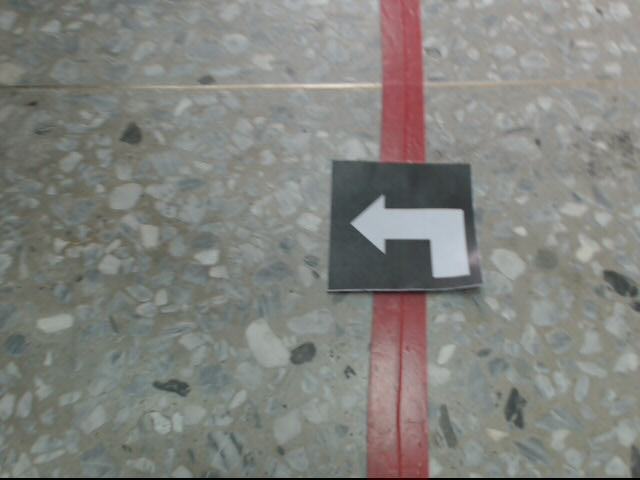left: (327, 158, 484, 293)
